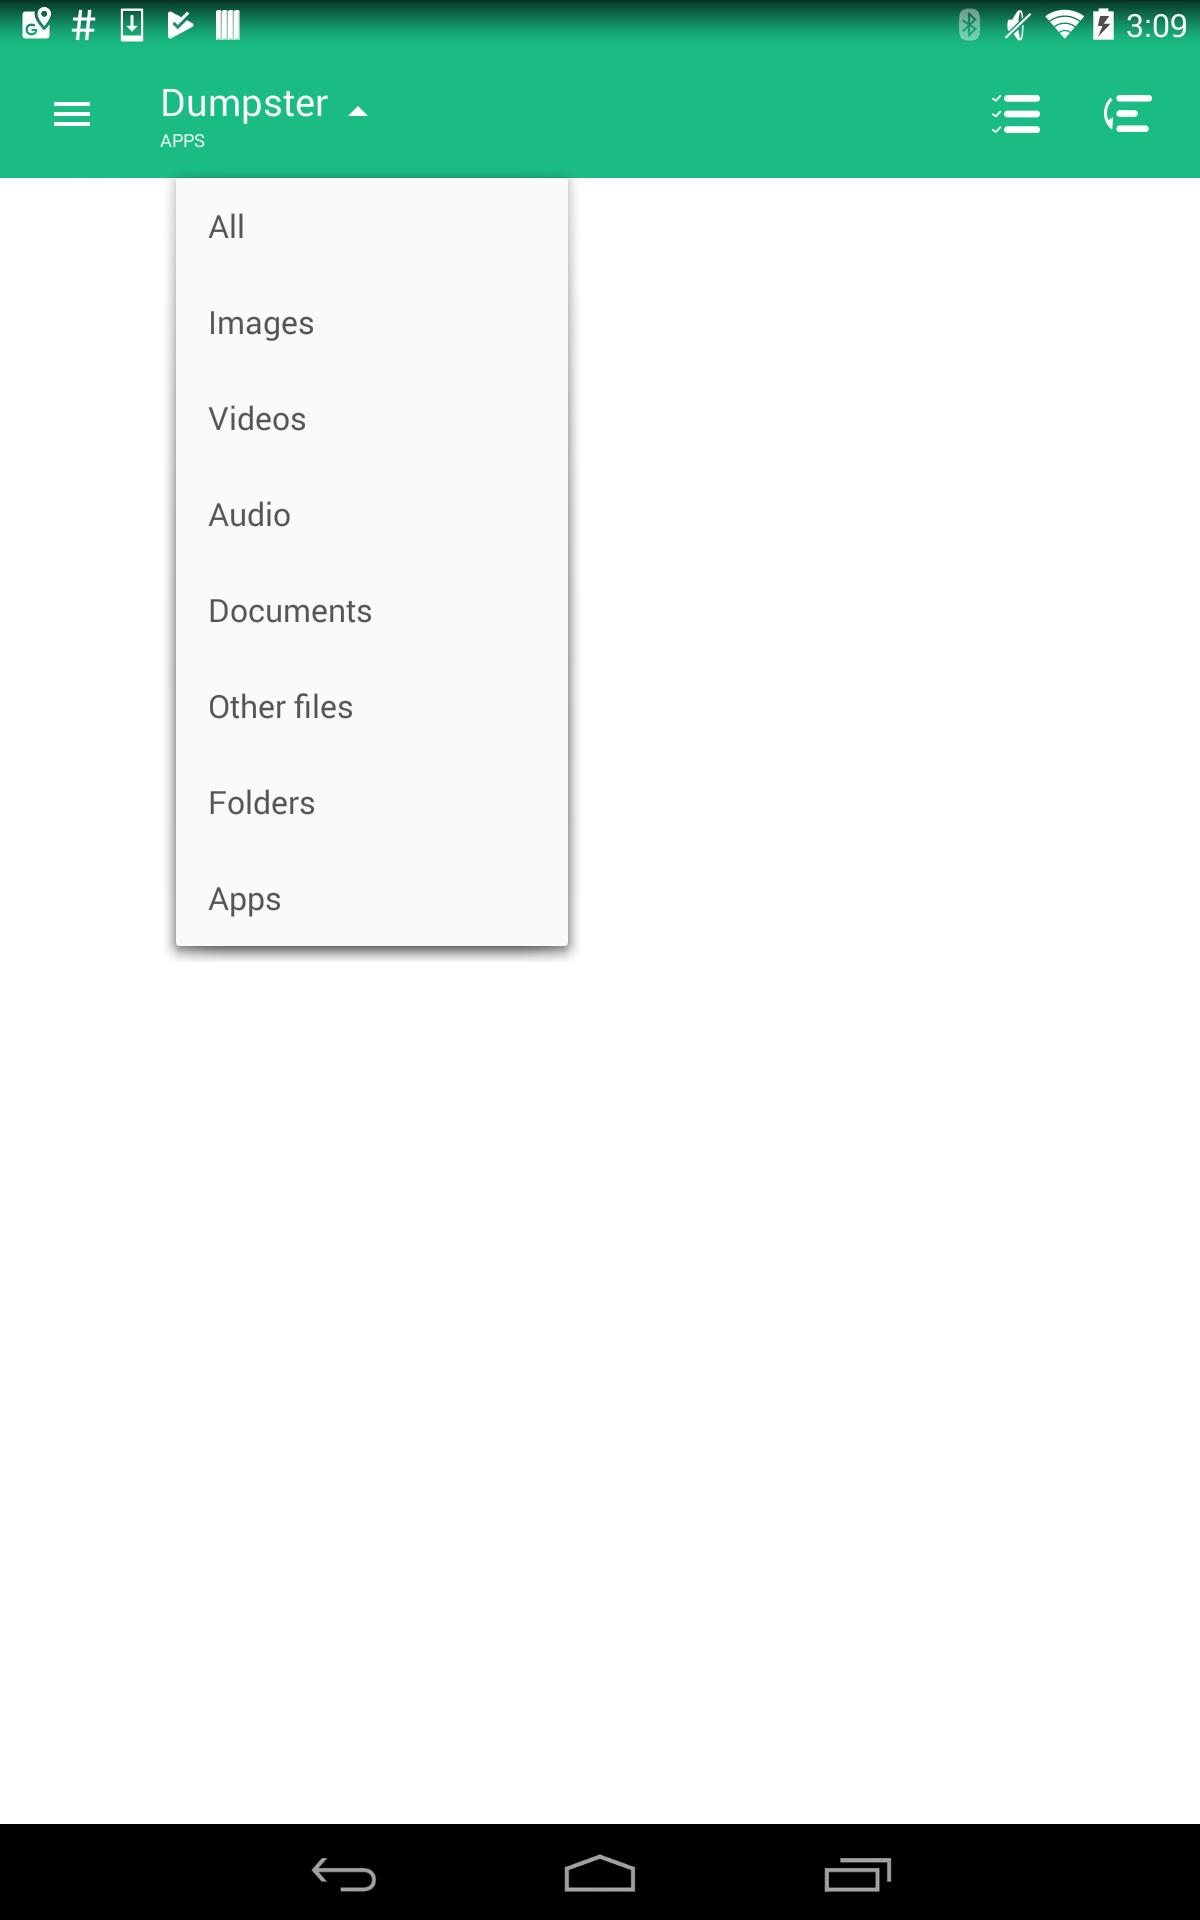android.widget.FrameLayout: (160, 162, 583, 962)
android.widget.LinearLayout: (176, 274, 568, 370), (176, 466, 568, 563), (176, 753, 568, 850), (176, 178, 568, 274), (176, 370, 568, 466), (176, 563, 568, 658), (176, 658, 568, 753), (176, 850, 568, 945)
android.widget.RelativeLayout: (207, 395, 536, 440), (207, 205, 536, 247), (207, 300, 536, 343), (207, 492, 536, 535), (207, 587, 536, 630), (207, 684, 536, 727), (207, 780, 536, 822), (207, 876, 536, 919)
android.widget.TextView: (207, 395, 536, 440), (207, 205, 536, 247), (207, 300, 536, 343), (207, 492, 536, 535), (207, 587, 536, 630), (207, 684, 536, 727), (207, 780, 536, 822), (207, 876, 536, 919)
